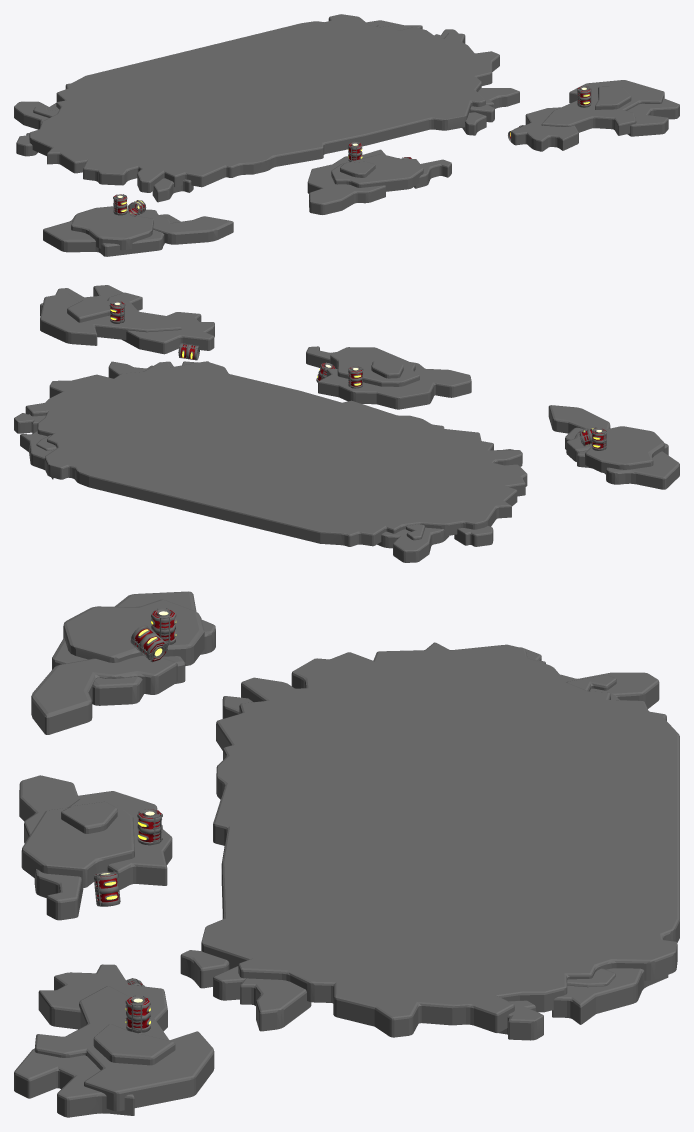
File: mesh_Factory_Oustide_DM.fbx
3 views of the same model, one above another, from view 1: azimuth 30°, elevation 25°; view 2: azimuth 150°, elevation 25°; view 3: azimuth 270°, elevation 25° (orthographic). The views are drawn at different scales.
Parts seen in each view (by area): view 1: mesh_Factory_Ground_Outside; view 2: mesh_Factory_Ground_Outside; view 3: mesh_Factory_Ground_Outside.
Part boxes in pixels (x1,y1,x2,y2): mesh_Factory_Ground_Outside: [14, 14, 679, 256]; mesh_Factory_Ground_Outside: [14, 285, 679, 562]; mesh_Factory_Ground_Outside: [14, 591, 679, 1117].
Bounding box in the file's own units: 97.07 × 5.66 × 53.1.
